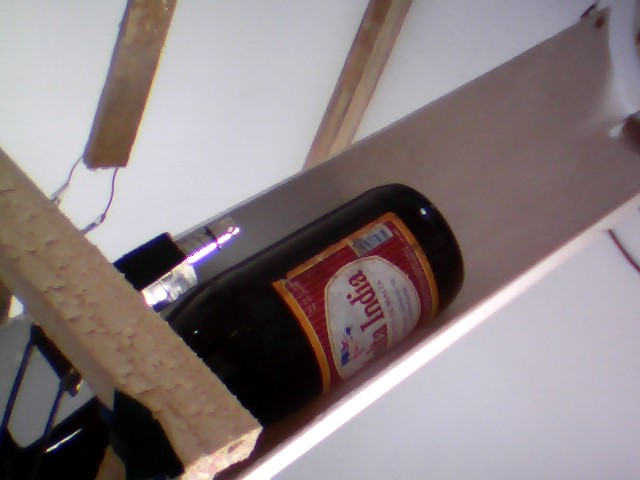vidrio: (181, 175, 477, 423)
